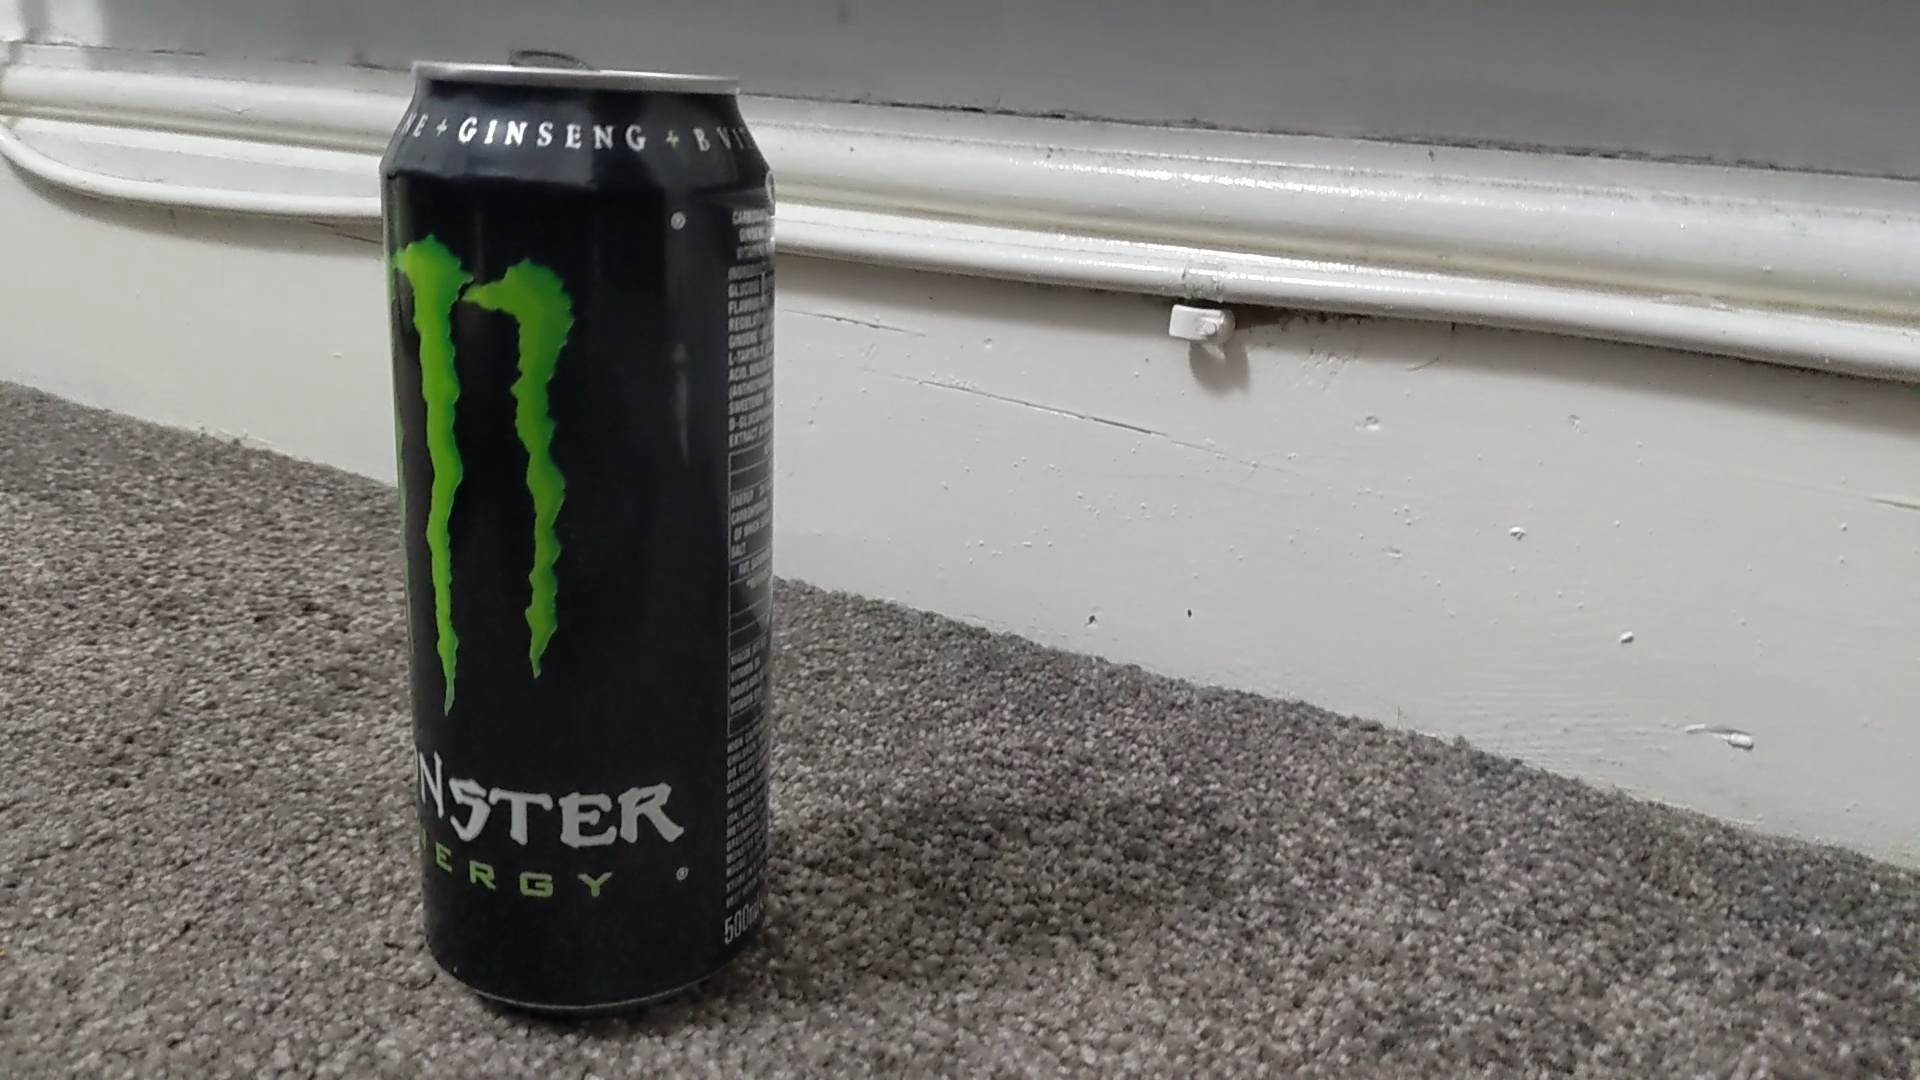monster-original: (378, 59, 775, 1015)
